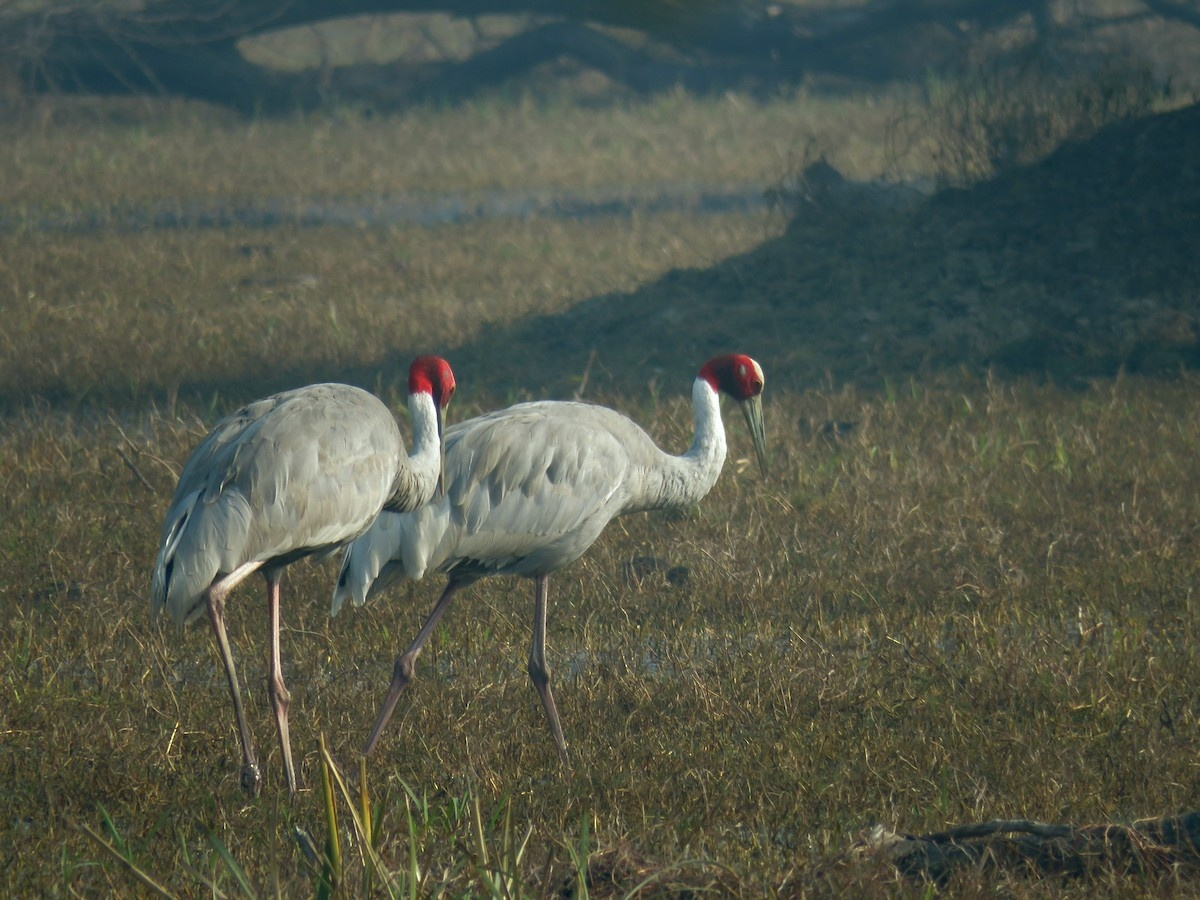crane: (365, 348, 776, 746), (175, 353, 460, 802)
